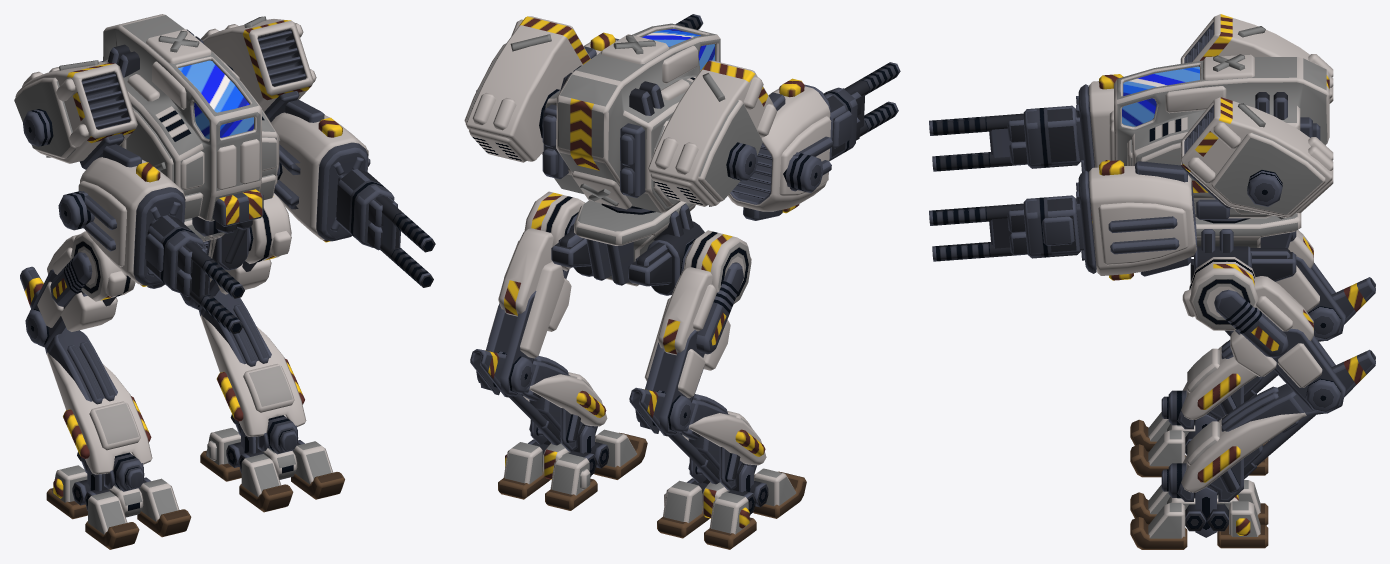
File: mechfoot2.FBX
3 views of the same model, side by side, from view 1: azimuth 30°, elevation 25°; view 2: azimuth 150°, elevation 25°; view 3: azimuth 270°, elevation 25° (orthographic). The views are drawn at different scales.
Parts seen in each view (by area): view 1: Box003, Box008, Box004, Object006, Cylinder004, Object004, Object005, Object010, Object007, Cylinder001, Object011, Object008 (+3 smaller); view 2: Box004, Box003, Object005, Line001, Cylinder001, Box008, Object006, Object004, Object011, Object008, Cylinder004, Object010 (+3 smaller); view 3: Box003, Box004, Box008, Cylinder004, Cylinder001, Object004, Object006, Line001, Object007, Object008, Object010, Object005 (+1 smaller).
Boxes of the visible parts, left/top/right/bottom form: Box003: left=99, top=14, right=280, bottom=236; Box008: left=58, top=99, right=370, bottom=286; Box004: left=14, top=16, right=316, bottom=169; Object006: left=20, top=266, right=152, bottom=491; Cylinder004: left=145, top=169, right=435, bottom=334; Object004: left=180, top=290, right=306, bottom=454; Object005: left=31, top=231, right=135, bottom=347; Object010: left=84, top=477, right=191, bottom=549; Object007: left=238, top=440, right=344, bottom=512; Cylinder001: left=192, top=193, right=291, bottom=310; Object011: left=46, top=465, right=90, bottom=519; Object008: left=200, top=428, right=244, bottom=481; Box004: left=464, top=16, right=777, bottom=206; Box003: left=539, top=23, right=720, bottom=213; Object005: left=639, top=230, right=751, bottom=435; Line001: left=551, top=200, right=704, bottom=295; Cylinder001: left=479, top=191, right=584, bottom=396; Box008: left=542, top=32, right=832, bottom=220; Object006: left=629, top=387, right=766, bottom=490; Object004: left=470, top=349, right=607, bottom=451; Object011: left=657, top=478, right=756, bottom=549; Object008: left=498, top=439, right=597, bottom=510; Cylinder004: left=675, top=14, right=900, bottom=161; Object010: left=750, top=468, right=806, bottom=518; Box003: left=1105, top=54, right=1329, bottom=219; Box004: left=1180, top=14, right=1333, bottom=219; Box008: left=1076, top=74, right=1196, bottom=280; Cylinder004: left=929, top=105, right=1092, bottom=261; Cylinder001: left=1182, top=257, right=1345, bottom=413; Object004: left=1161, top=349, right=1375, bottom=501; Object006: left=1161, top=277, right=1375, bottom=429; Line001: left=1190, top=213, right=1301, bottom=282; Object007: left=1130, top=484, right=1206, bottom=549; Object008: left=1207, top=480, right=1268, bottom=548; Object010: left=1130, top=412, right=1195, bottom=477; Object005: left=1276, top=230, right=1345, bottom=340.
Size of the model in its own units: 8.81 by 13.78 by 12.81.
Materials: 1 (1 with a texture image).
